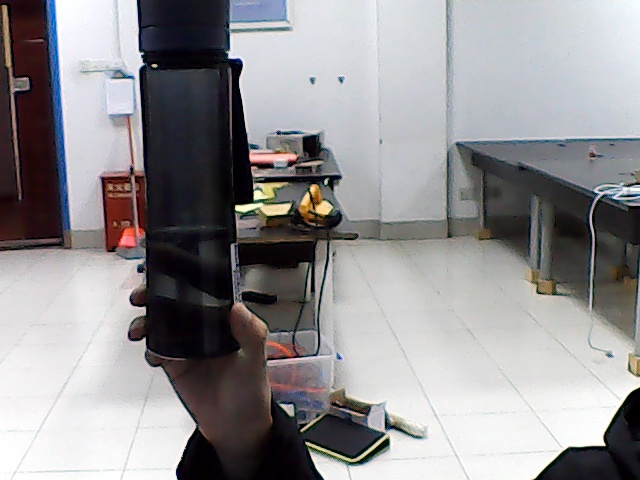cup: (139, 9, 232, 349)
